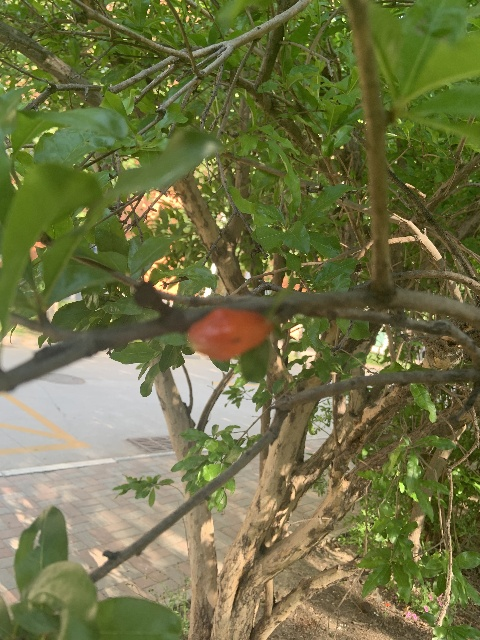bud: (187, 307, 272, 362)
